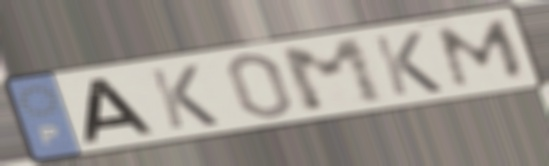0: (223, 51, 296, 122)
A: (81, 76, 160, 146)
K: (145, 62, 224, 132), (369, 29, 448, 99)
M: (274, 34, 392, 116), (434, 16, 530, 91)
